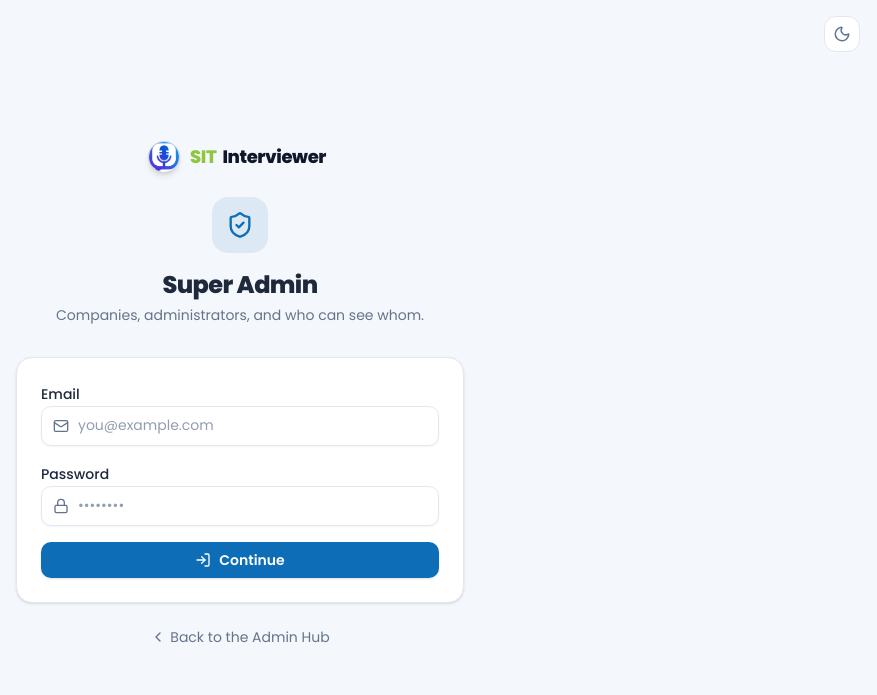
step one: password › shows the error and stays on step one when the password is wrong
In the field labelled "Email": (240, 426) [41, 406, 439, 446], type "admin@interviewer.com"
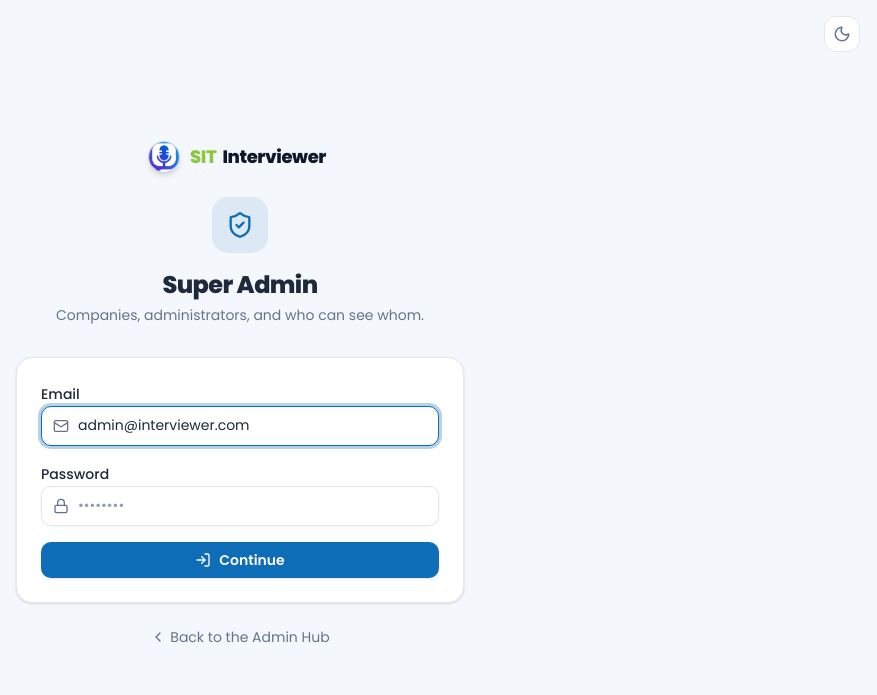
In the password field labelled "Password": (240, 506) [41, 486, 439, 526], type "correct-horse-battery"
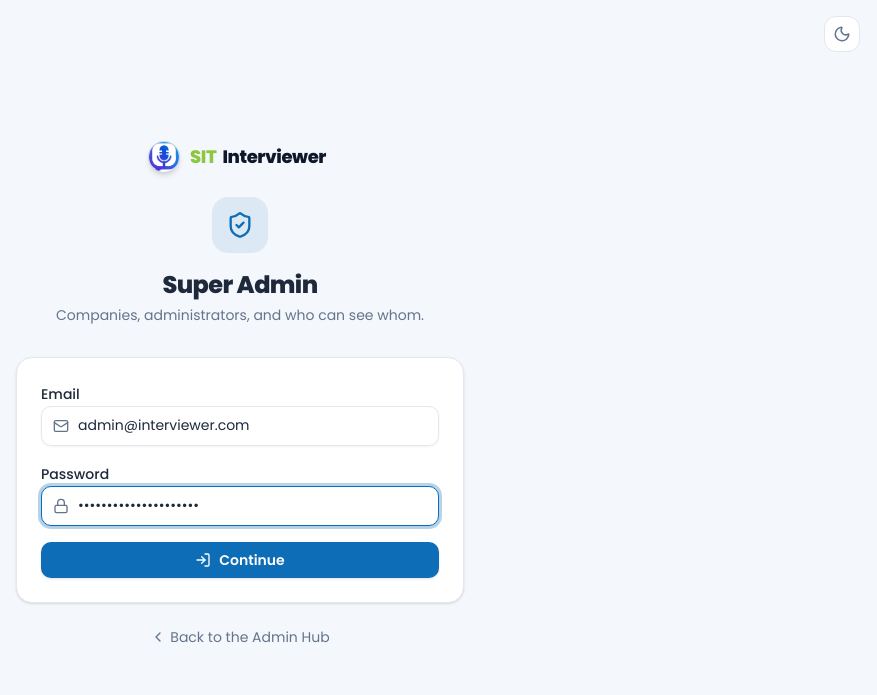
Click the button "Continue": (240, 560) [41, 542, 439, 578]
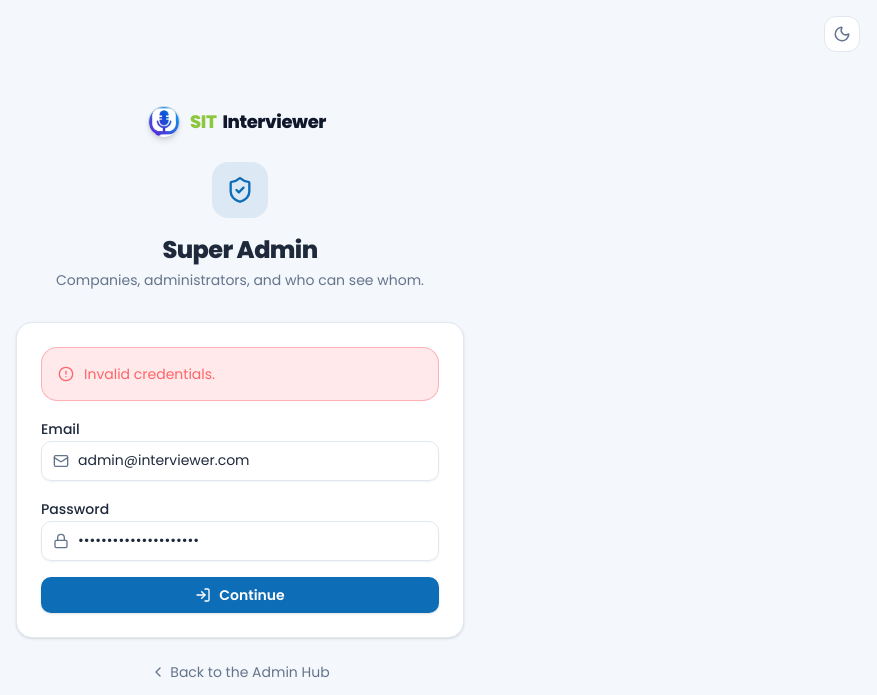
Result: the text "Invalid credentials." is shown at [84, 364, 215, 384]
